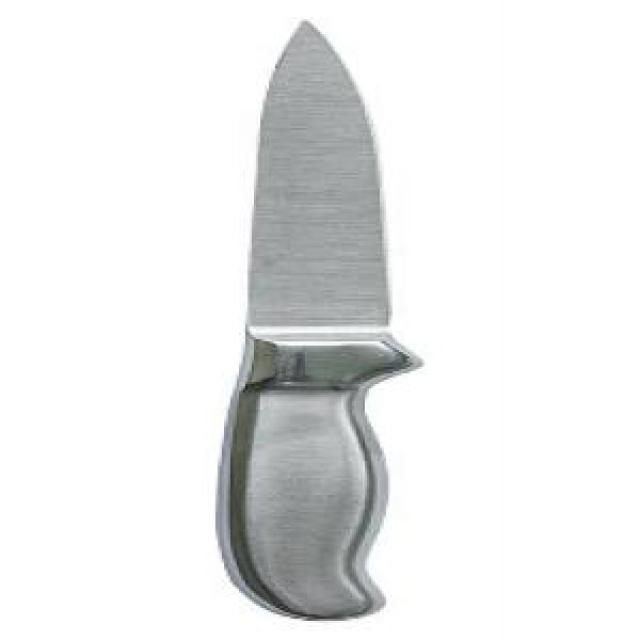knife: (181, 9, 426, 636)
